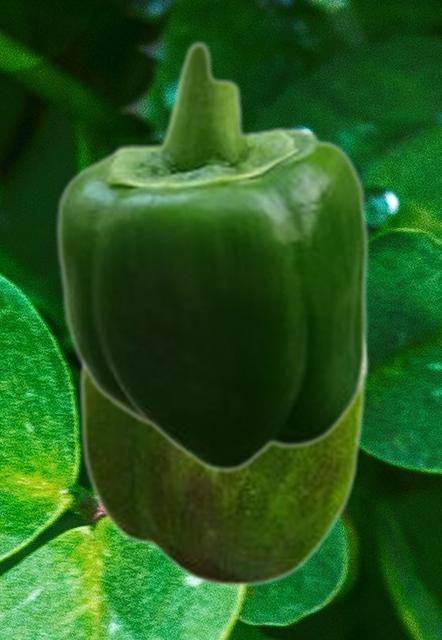bell_pepper: (53, 39, 369, 474), (78, 354, 369, 588)
